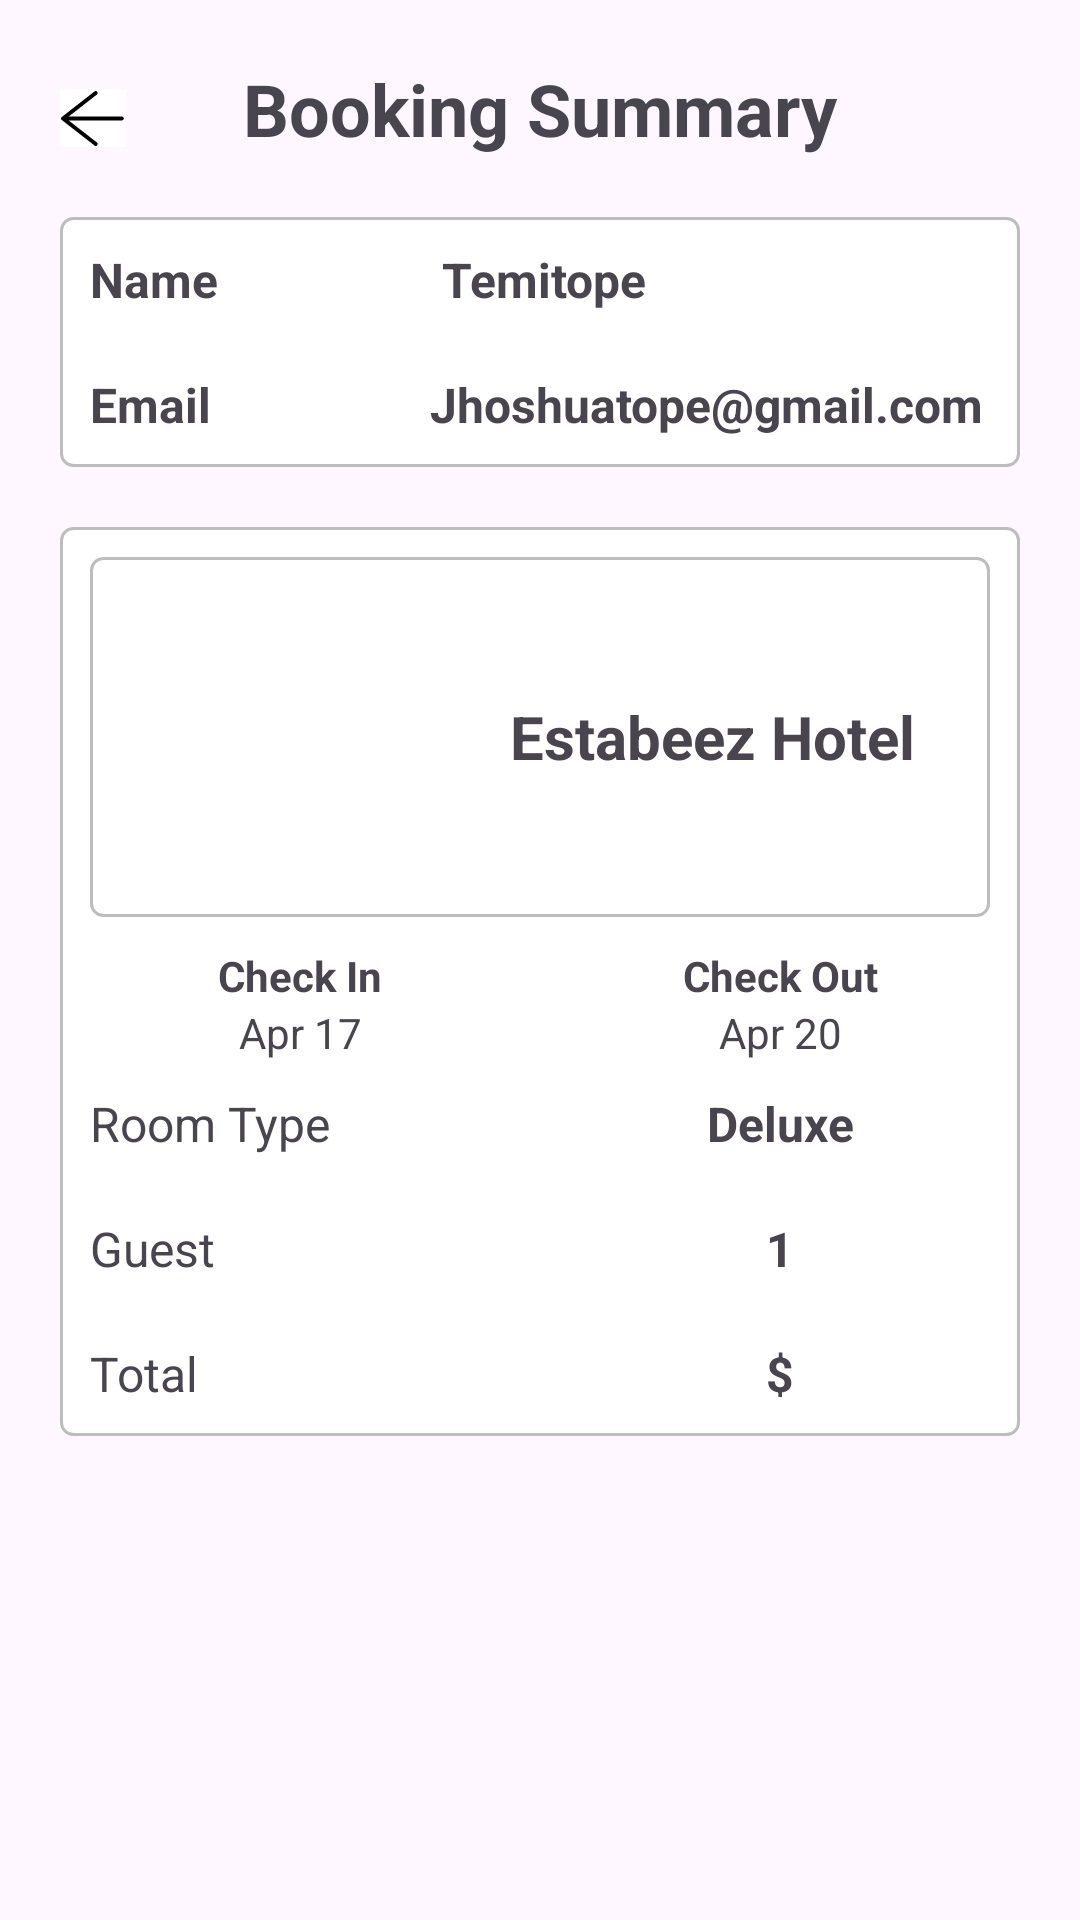

Icon bounding boxes for this 1080w x 1920h phone screenshot, format (left=x1, top=y1, right=x2, bottom=y2):
arrow: (left=61, top=91, right=124, bottom=146)
